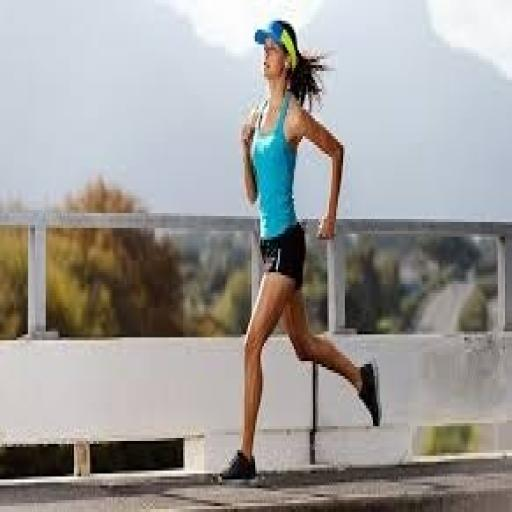running: (216, 15, 386, 485)
